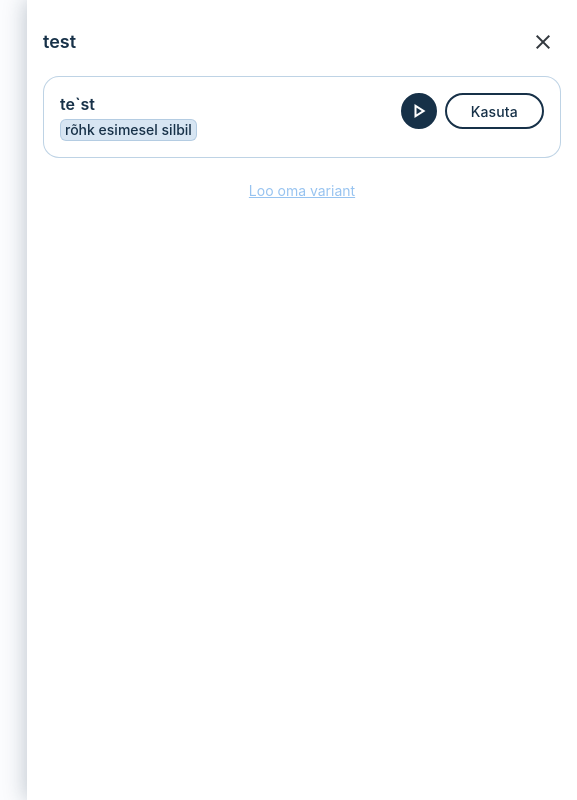
it: PronunciationVariants Full › shows custom variant form when toggled
Click the button "Loo oma variant" at (302, 191), box [249,174,355,207]
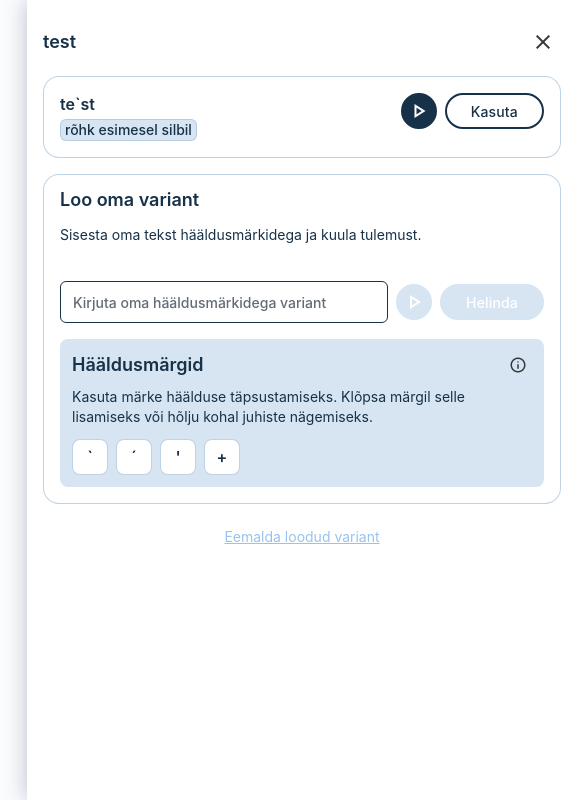
expect the field with placeholder "Kirjuta oma hääldusmärkidega variant" is shown: met, box [60,281,388,323]
